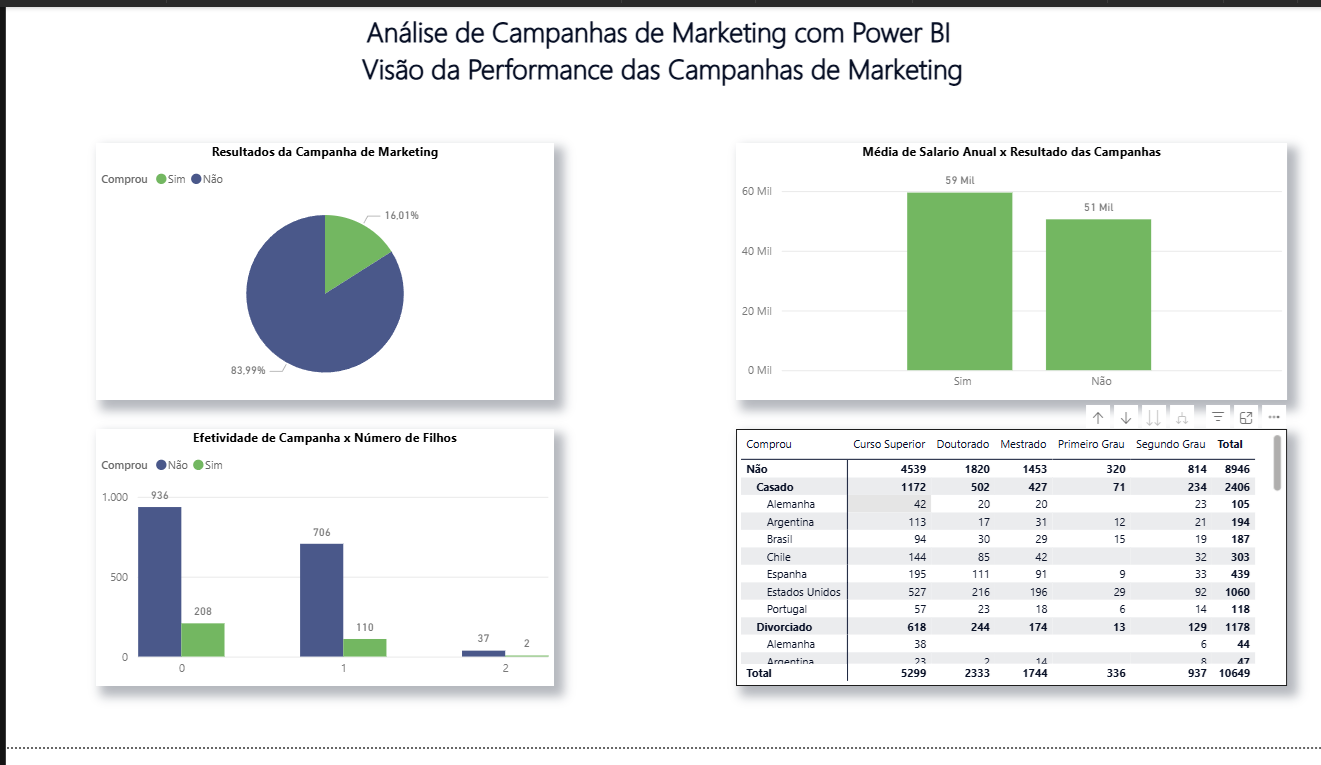

Layout of this report page (visuals, bound fields, positions):
{"tool":"powerbi","page":{"name":"Visão Campanhas","canvas":[1280,720],"ordinal":2},"visuals":[{"type":"textbox","box":[9.7,0,1257.6,83.6],"z":0},{"type":"pieChart","title":"Resultados da Campanha de Marketing","fields":{"Category":["data.Comprou"],"Y":["CountNonNull(data.ID)"]},"box":[87.5,132.3,445.5,250],"z":1000},{"type":"clusteredColumnChart","title":"Média de Salario Anual x Resultado das Campanhas","fields":{"Category":["data.Comprou"],"Y":["Avg(data.Salario Anual)"]},"box":[710,132.3,535.9,250],"z":2000},{"type":"pivotTable","fields":{"Rows":["data.Comprou","data.Estado Civil","data.Pais"],"Values":["Sum(data.Numero Visitas WebSite Mes)"],"Columns":["data.Escolaridade"]},"box":[710,410.5,535.9,250],"z":3000},{"type":"clusteredColumnChart","title":"Efetividade de Campanha x Número de Filhos","fields":{"Category":["data.Filhos em Casa"],"Series":["data.Comprou"],"Y":["CountNonNull(data.Filhos em Casa)"]},"box":[88,410,445,250],"z":4000}]}

Visuals, with their boxes in screenshot pixels (x1, y1, x2, y2), scaled from the page's 1280x720 canvas onto the 1321x765 screenshot:
textbox: 10:0:1308:89
"Resultados da Campanha de Marketing" pieChart: 90:141:550:406
"Média de Salario Anual x Resultado das Campanhas" clusteredColumnChart: 733:141:1286:406
pivotTable - data.Comprou x data.Estado Civil: 733:436:1286:702
"Efetividade de Campanha x Número de Filhos" clusteredColumnChart: 91:436:550:701
